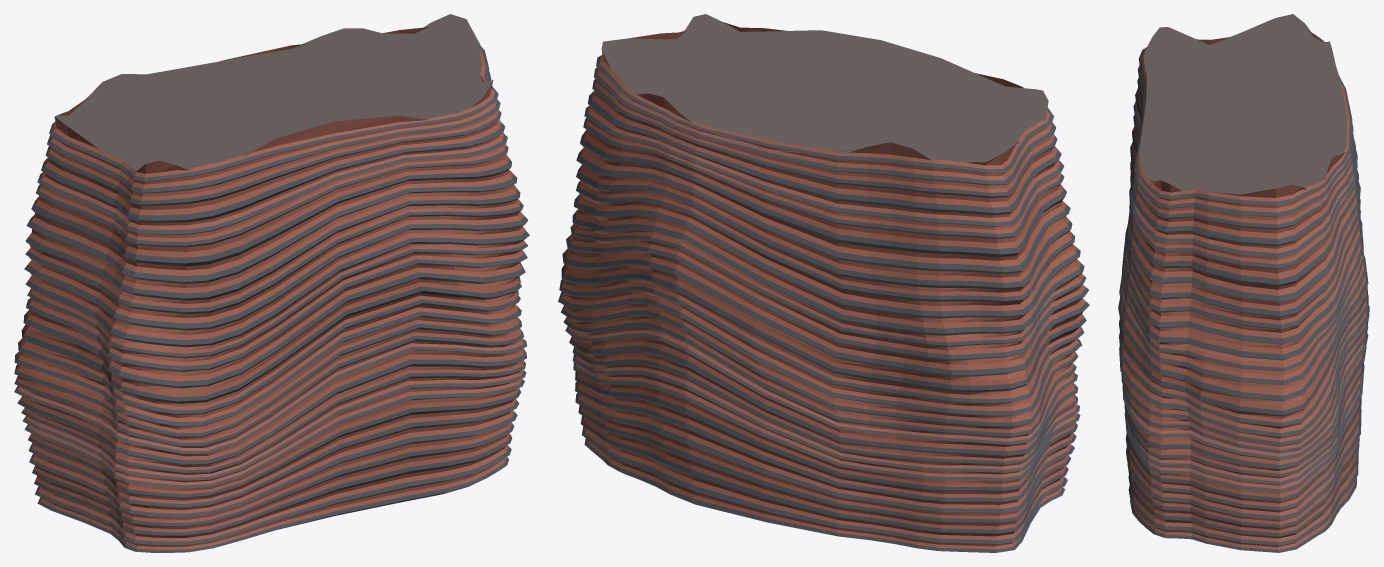
3 renders of one model, left to right at view 1: azimuth 30°, elevation 25°; view 2: azimuth 150°, elevation 25°; view 3: azimuth 270°, elevation 25°, orthographic. The views are drawn at different scales.
Visible parts, largest first — view 1: one_solid_bif_specimen_with_unequal_folded_fine_laminae_and_; view 2: one_solid_bif_specimen_with_unequal_folded_fine_laminae_and_; view 3: one_solid_bif_specimen_with_unequal_folded_fine_laminae_and_.
Part boxes in pixels (x1,y1,x2,y2): one_solid_bif_specimen_with_unequal_folded_fine_laminae_and_: (14,14,529,552); one_solid_bif_specimen_with_unequal_folded_fine_laminae_and_: (558,14,1089,552); one_solid_bif_specimen_with_unequal_folded_fine_laminae_and_: (1118,14,1369,552).
Bounding box in the file's own units: 0.8558 × 0.676 × 0.428.
